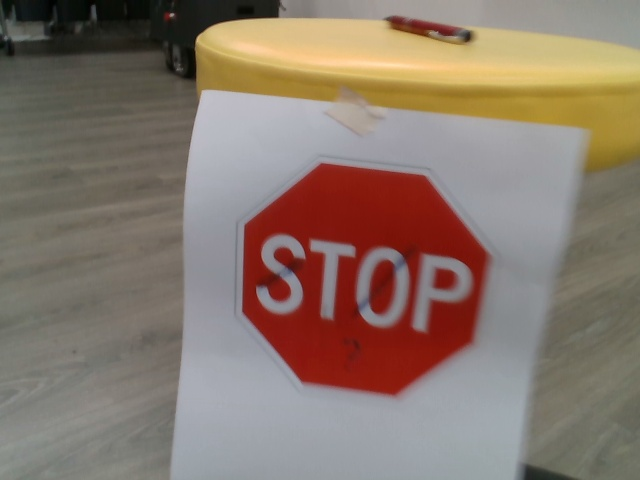stop: (238, 154, 494, 407)
